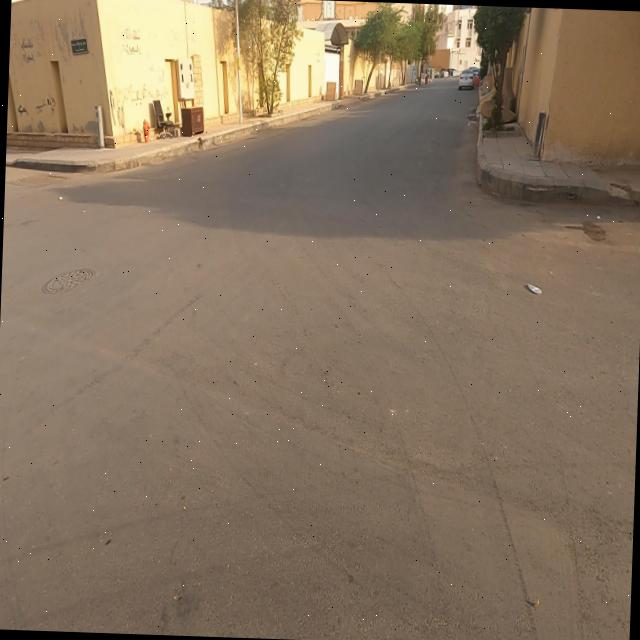Graffiti: (106, 68, 148, 130), (147, 66, 169, 99), (124, 27, 142, 60), (21, 35, 36, 67), (36, 96, 57, 116), (19, 105, 29, 119)
